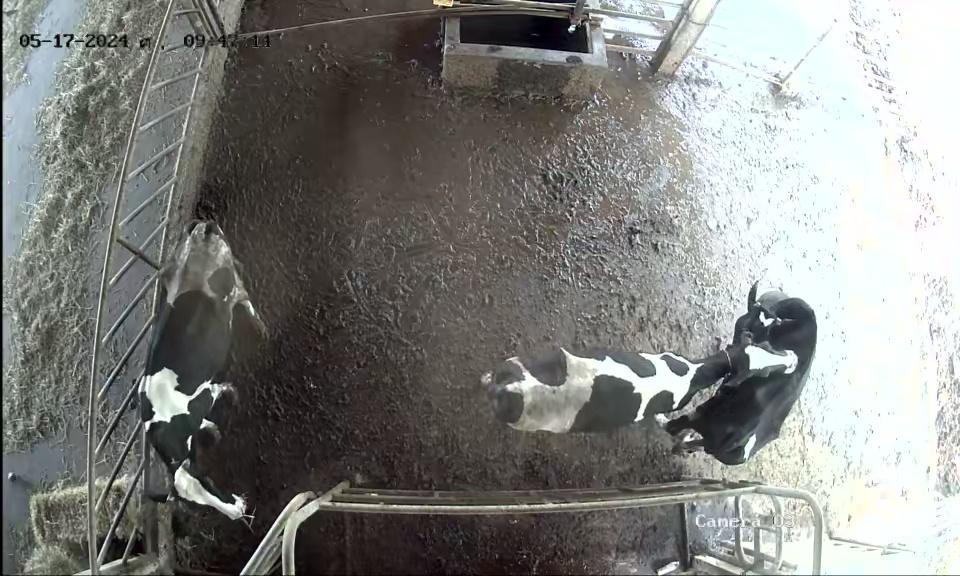propping: (681, 329, 805, 397)
stand: (126, 207, 273, 541), (658, 264, 826, 473)
